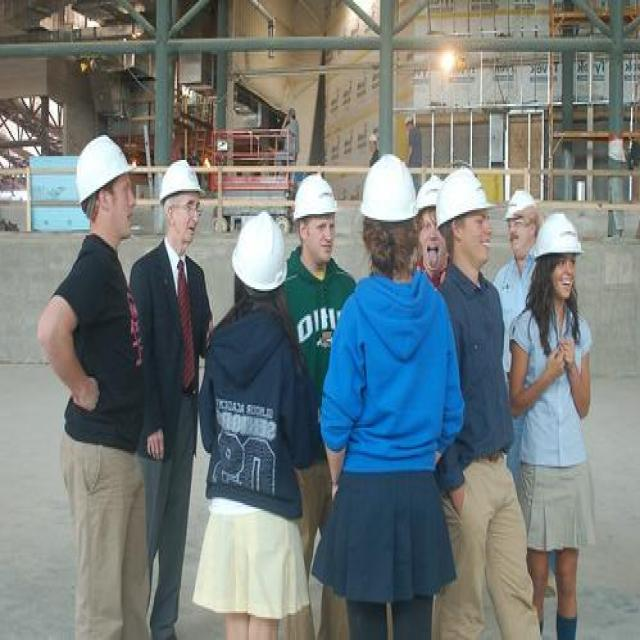Safety-Helmet: (70, 129, 145, 208), (227, 204, 290, 297), (355, 148, 418, 230), (434, 162, 491, 231), (156, 152, 208, 208), (531, 210, 584, 262), (290, 170, 338, 226), (502, 183, 538, 222)
